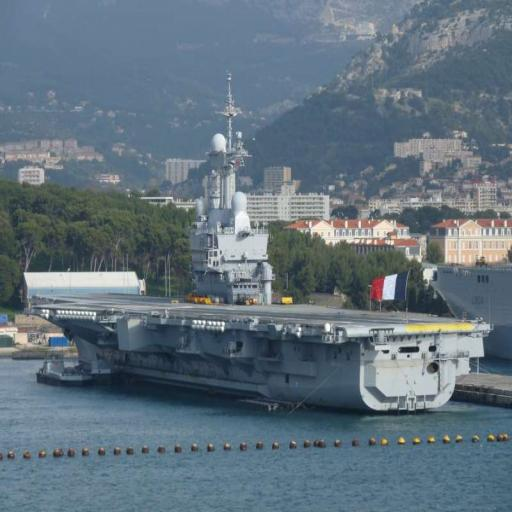Portanaves: (19, 65, 495, 421)
